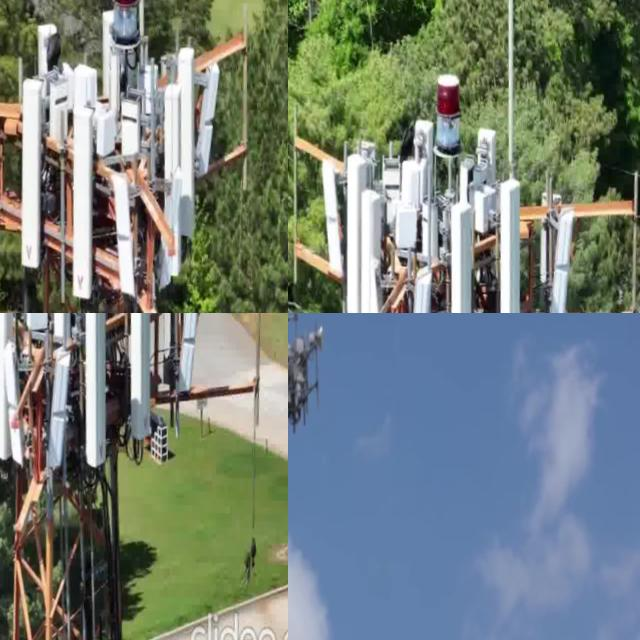GSM Antenna: (56, 99, 102, 306), (164, 39, 205, 245), (150, 86, 192, 274), (8, 78, 48, 272), (69, 313, 117, 474), (332, 154, 377, 313), (483, 171, 530, 313), (118, 313, 163, 446), (435, 199, 483, 313), (346, 185, 387, 313), (101, 172, 140, 299), (312, 155, 348, 288), (537, 199, 578, 313), (0, 313, 24, 477), (384, 199, 418, 264), (16, 313, 53, 340)
Microwave Antenna: (306, 321, 327, 360)
